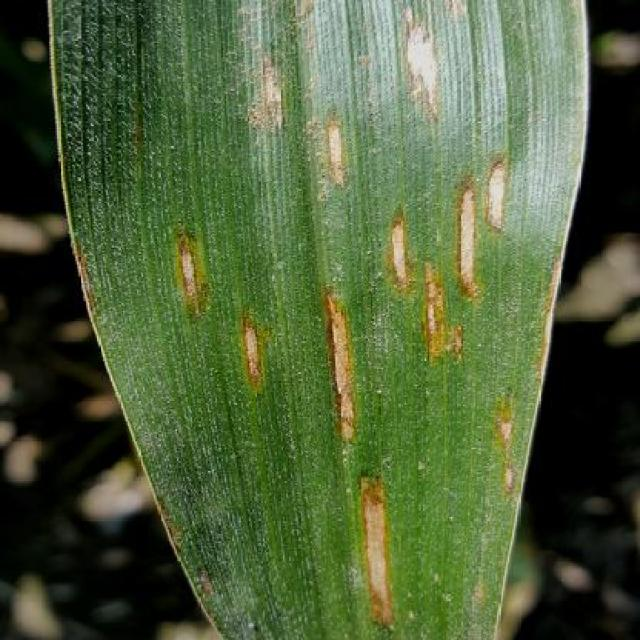Corn_Grey_Leaf_Spot: (52, 3, 578, 640)
